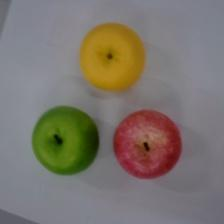green: (32, 106, 100, 175)
red: (114, 110, 183, 179)
yellow: (79, 23, 146, 91)
